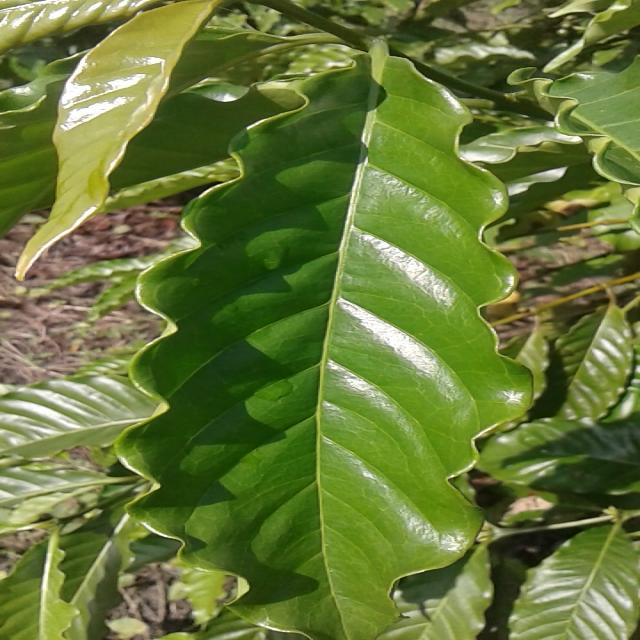Sanas: (120, 42, 534, 640)
